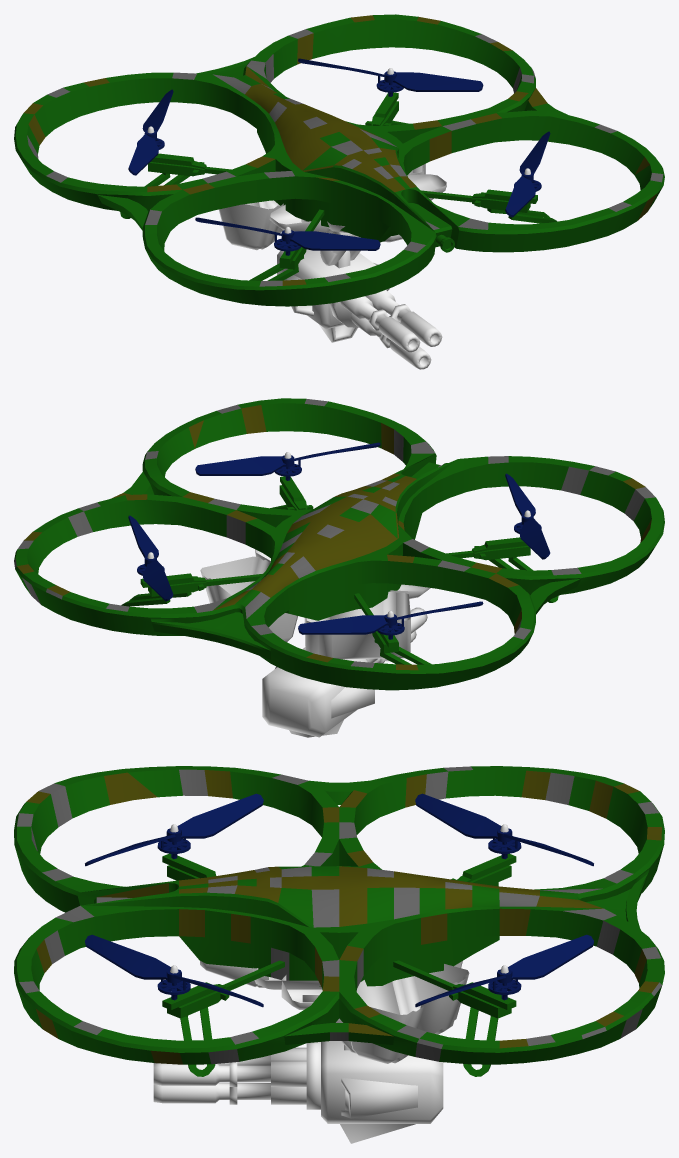
File: drone.fbx
3 renders of one model, top to bottom at view 1: azimuth 30°, elevation 25°; view 2: azimuth 150°, elevation 25°; view 3: azimuth 270°, elevation 25°, orthographic. The views are drawn at different scales.
Parts seen in each view (by area): view 1: Body, GatelingGun_L3_Barrel_LOD0, GatelingGun_L3_Base_LOD0, GatelingGun_L3_GunBody_LOD0, Rotor2.003, Rotor2.001, Rotor2.002, Rotor2; view 2: Body, GatelingGun_L3_Base_LOD0, GatelingGun_L3_GunBody_LOD0, Rotor2.002, Rotor2, Rotor2.001, Rotor2.003; view 3: Body, GatelingGun_L3_GunBody_LOD0, GatelingGun_L3_Barrel_LOD0, GatelingGun_L3_Base_LOD0, Rotor2, Rotor2.003, Rotor2.001, Rotor2.002.
Boxes of the visible parts, x1,y1,x2,y2 form: Body: [14, 14, 664, 306]; GatelingGun_L3_Barrel_LOD0: [330, 290, 442, 369]; GatelingGun_L3_Base_LOD0: [218, 164, 446, 250]; GatelingGun_L3_GunBody_LOD0: [277, 249, 389, 342]; Rotor2.003: [195, 217, 380, 255]; Rotor2.001: [298, 58, 483, 96]; Rotor2.002: [505, 131, 550, 217]; Rotor2: [128, 89, 173, 175]; Body: [14, 398, 664, 690]; GatelingGun_L3_Base_LOD0: [200, 549, 430, 661]; GatelingGun_L3_GunBody_LOD0: [262, 647, 374, 737]; Rotor2.002: [195, 442, 380, 480]; Rotor2: [298, 601, 483, 639]; Rotor2.001: [128, 515, 173, 601]; Rotor2.003: [505, 473, 550, 559]; Body: [14, 766, 664, 1076]; GatelingGun_L3_GunBody_LOD0: [321, 1041, 443, 1143]; GatelingGun_L3_Barrel_LOD0: [153, 1042, 320, 1109]; GatelingGun_L3_Base_LOD0: [200, 960, 469, 1063]; Rotor2: [415, 793, 593, 866]; Rotor2.003: [85, 793, 263, 866]; Rotor2.001: [415, 934, 593, 1007]; Rotor2.002: [85, 934, 263, 1007].
Bounding box in the file's own units: 2.46 × 2.38 × 1.04.
